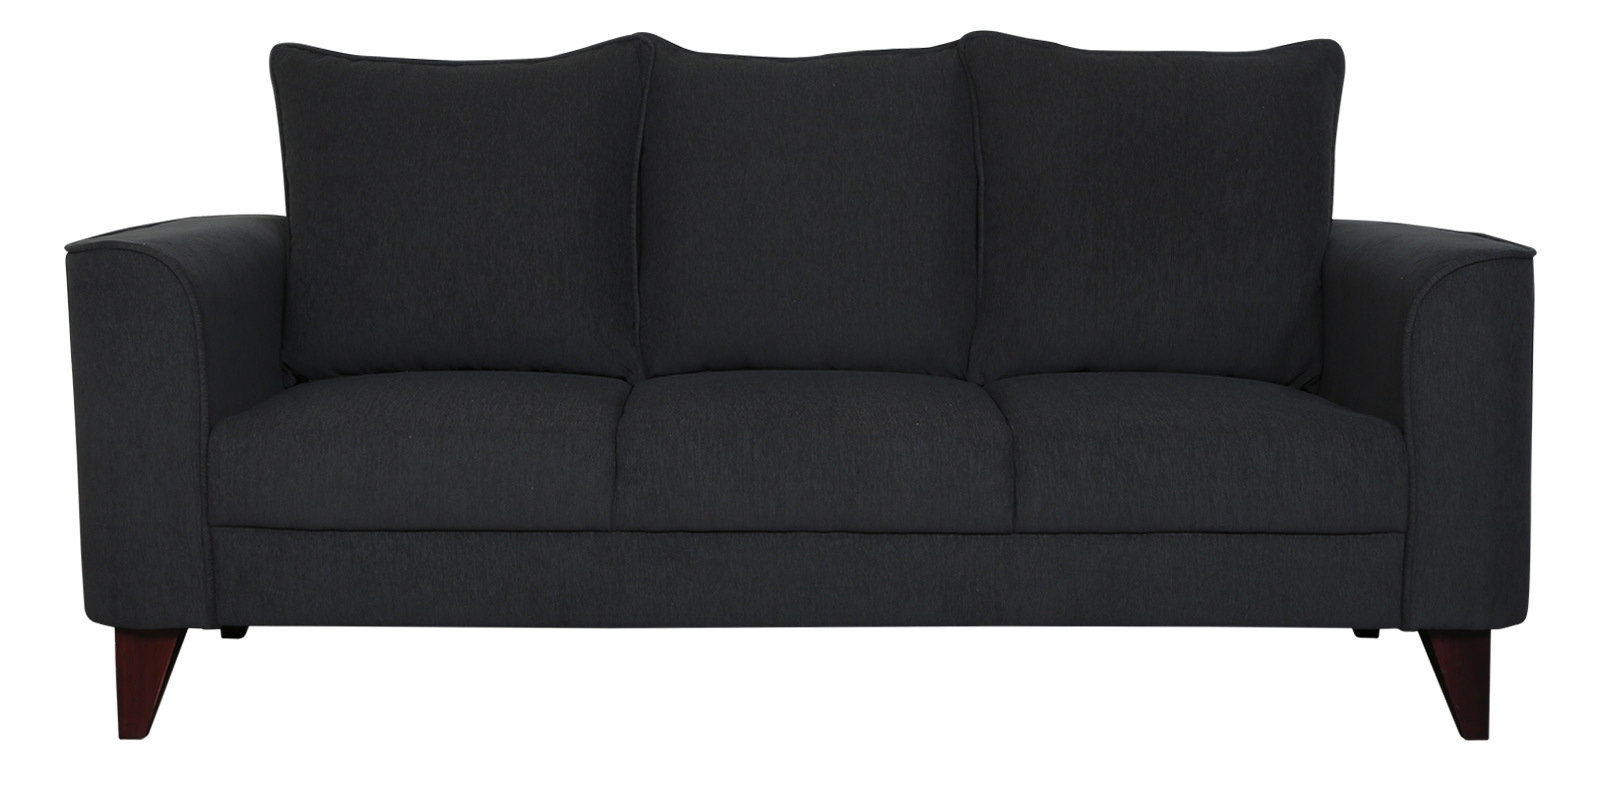Lara Three Seater Sofa in Charcoal Grey Colour by CasaCraft: (64, 29, 1539, 743)
